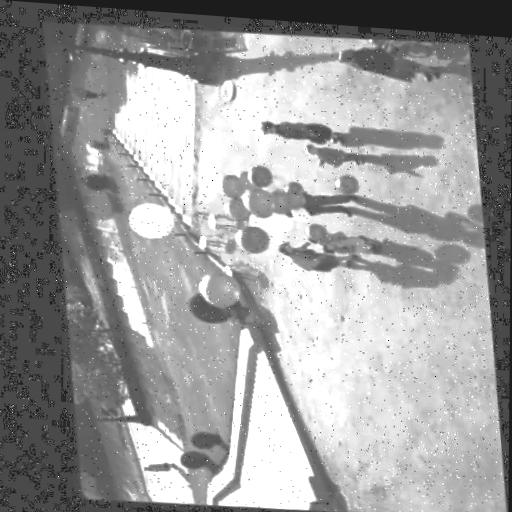balloon: (123, 201, 172, 240), (192, 269, 237, 310), (231, 225, 266, 254), (240, 187, 268, 219), (214, 174, 241, 199), (219, 198, 247, 221), (330, 175, 356, 196), (258, 174, 284, 195), (265, 211, 290, 232), (246, 166, 268, 188), (269, 191, 287, 215), (301, 225, 326, 242), (287, 205, 307, 223), (282, 192, 302, 209), (234, 170, 250, 190), (284, 182, 302, 196)
